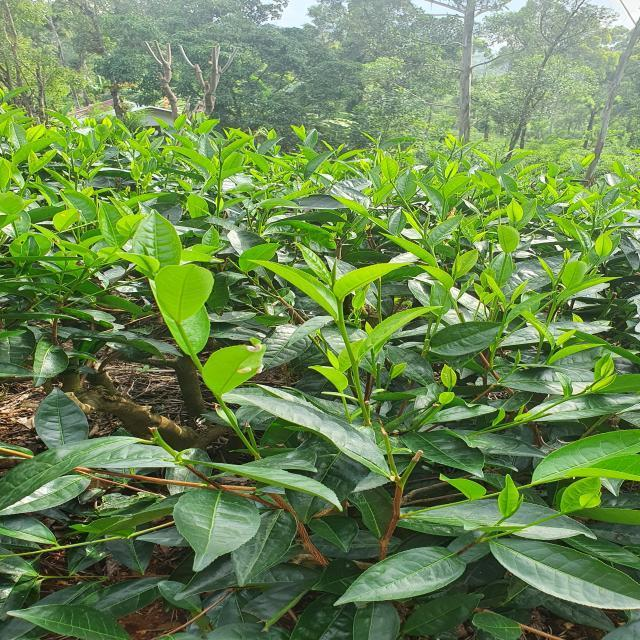Stem: (336, 321, 349, 341), (177, 324, 187, 340), (550, 302, 557, 312), (554, 398, 564, 405), (502, 311, 507, 324), (218, 179, 221, 188)
